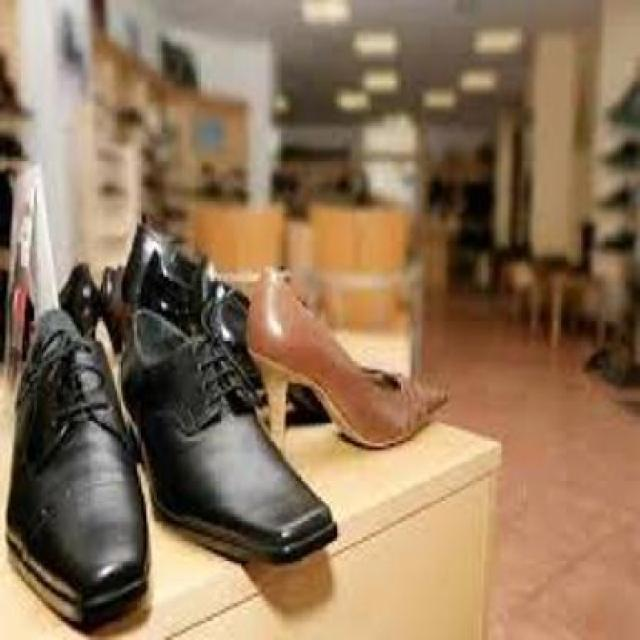not trash: (122, 297, 335, 566), (19, 322, 170, 612), (240, 265, 454, 453)
